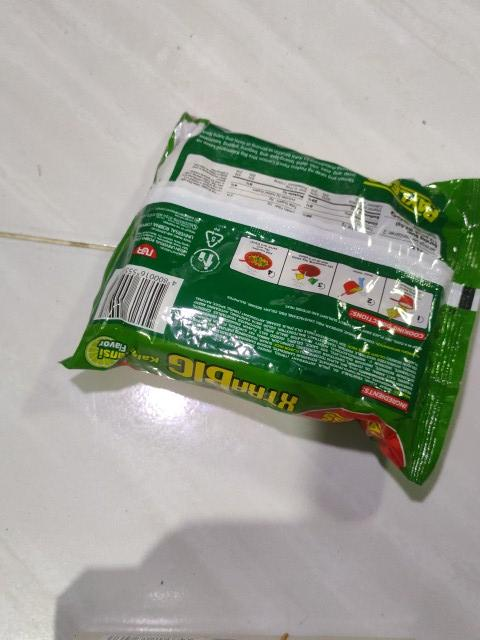Noodles: (58, 109, 479, 501)
